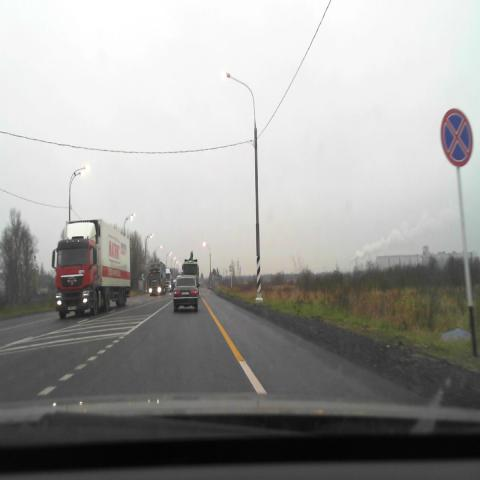3_27: (440, 107, 473, 167)
